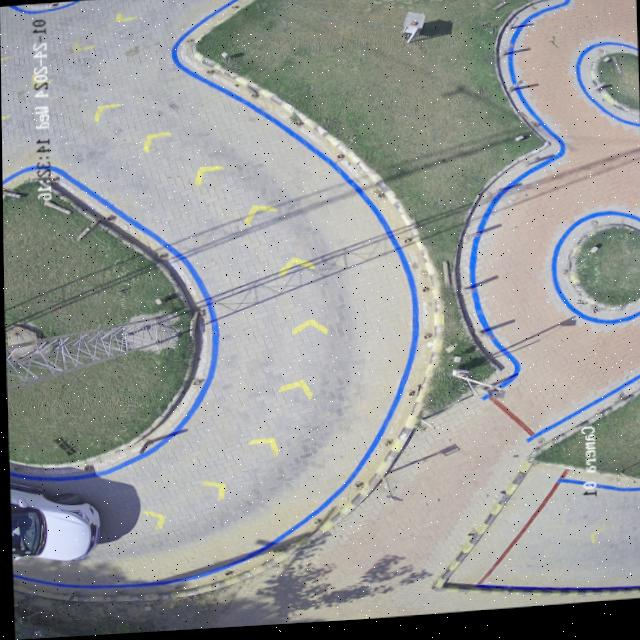car: (8, 482, 98, 561)
